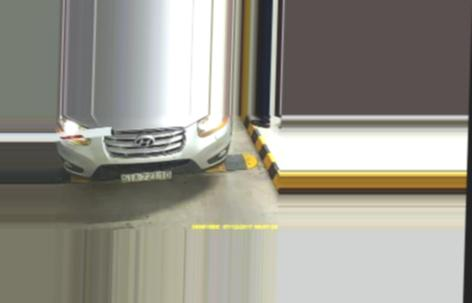License_Plate: (121, 170, 177, 184)
